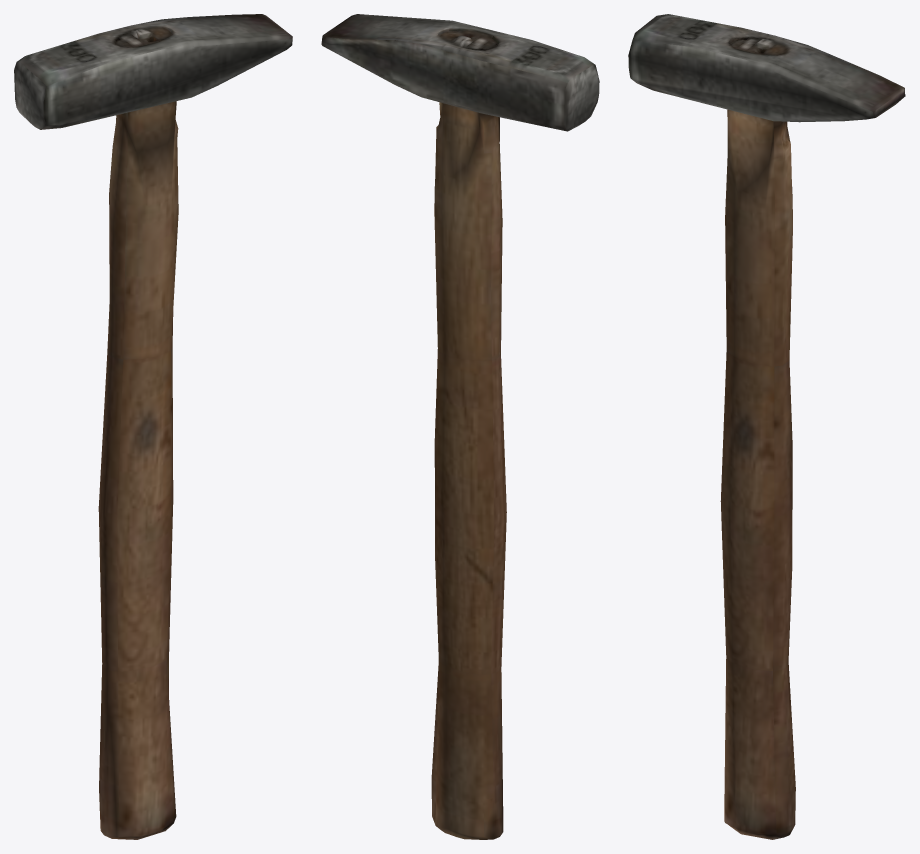
Rendered from cross_pein_hammer.glb.
The picture shows the model from 3 angles, left to right: view 1: azimuth 30°, elevation 25°; view 2: azimuth 150°, elevation 25°; view 3: azimuth 330°, elevation 25°; orthographic projection.
Parts seen in each view (by area): view 1: cross_pein_hammer; view 2: cross_pein_hammer; view 3: cross_pein_hammer.
Boxes of the visible parts, x1,y1,x2,y2 form: cross_pein_hammer: (14, 14, 292, 839); cross_pein_hammer: (321, 14, 599, 839); cross_pein_hammer: (628, 14, 905, 839).
Size of the model in its own units: 0.0986 by 0.2999 by 0.0236.
1 material, 1 textured.
